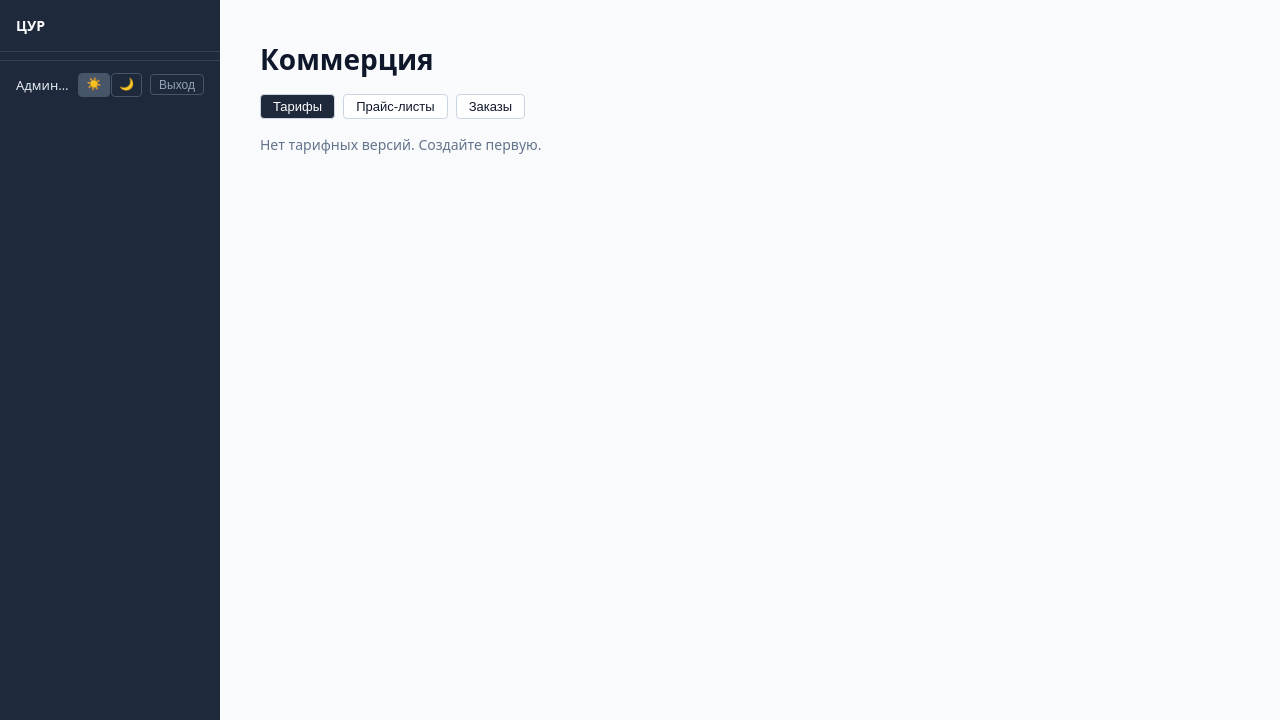
Scenario: CommerceOrdersTab › opens create form
Expected: the element with test id "commerce-tariffs-page" is shown, x1=260 y1=40 x2=542 y2=154
Click the button "Заказы": (490, 106) x1=456 y1=94 x2=525 y2=119
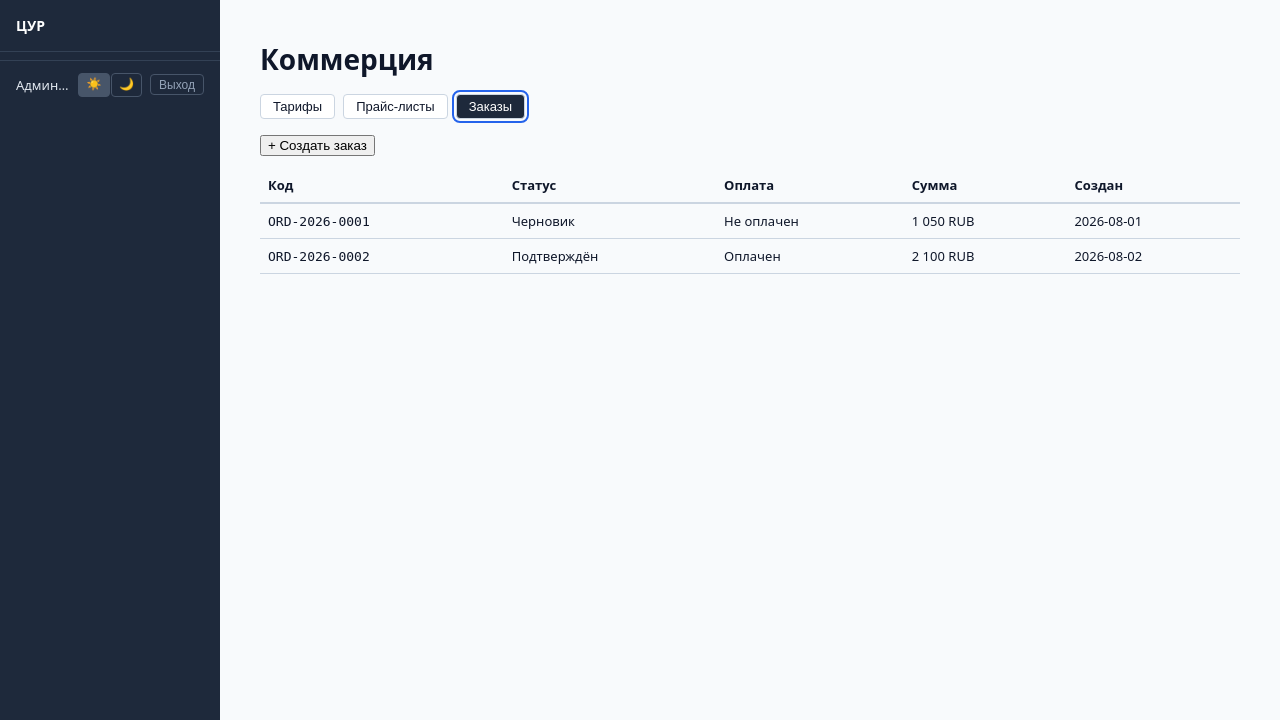
Now the text "ORD-2026-0001" is shown, box x1=268 y1=214 x2=370 y2=229
Click the button with test id "commerce-order-create-open": (317, 146) x1=260 y1=135 x2=375 y2=156
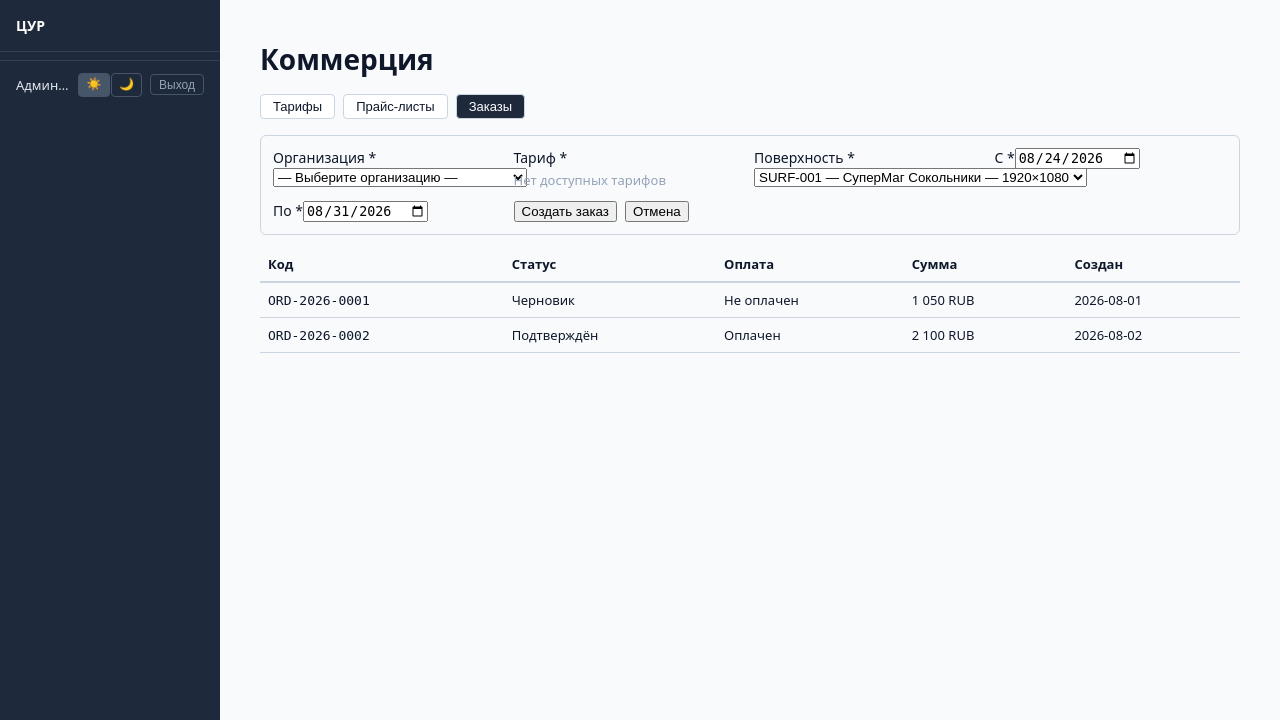
Now the form with test id "commerce-order-create-form" is shown, box x1=260 y1=135 x2=1240 y2=235
